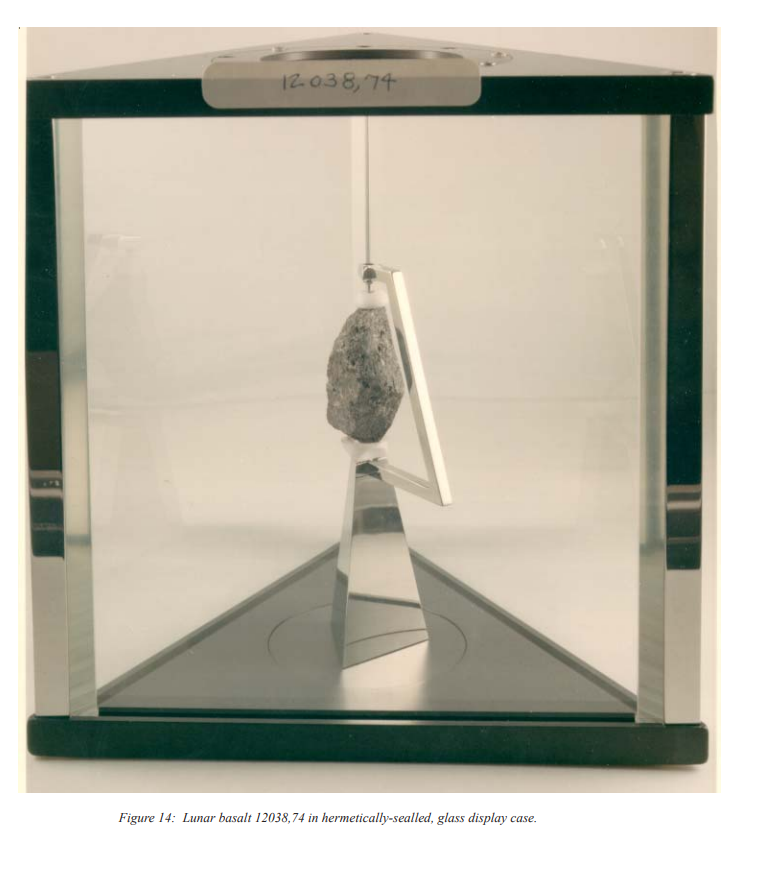Basalt: (319, 296, 424, 441)
